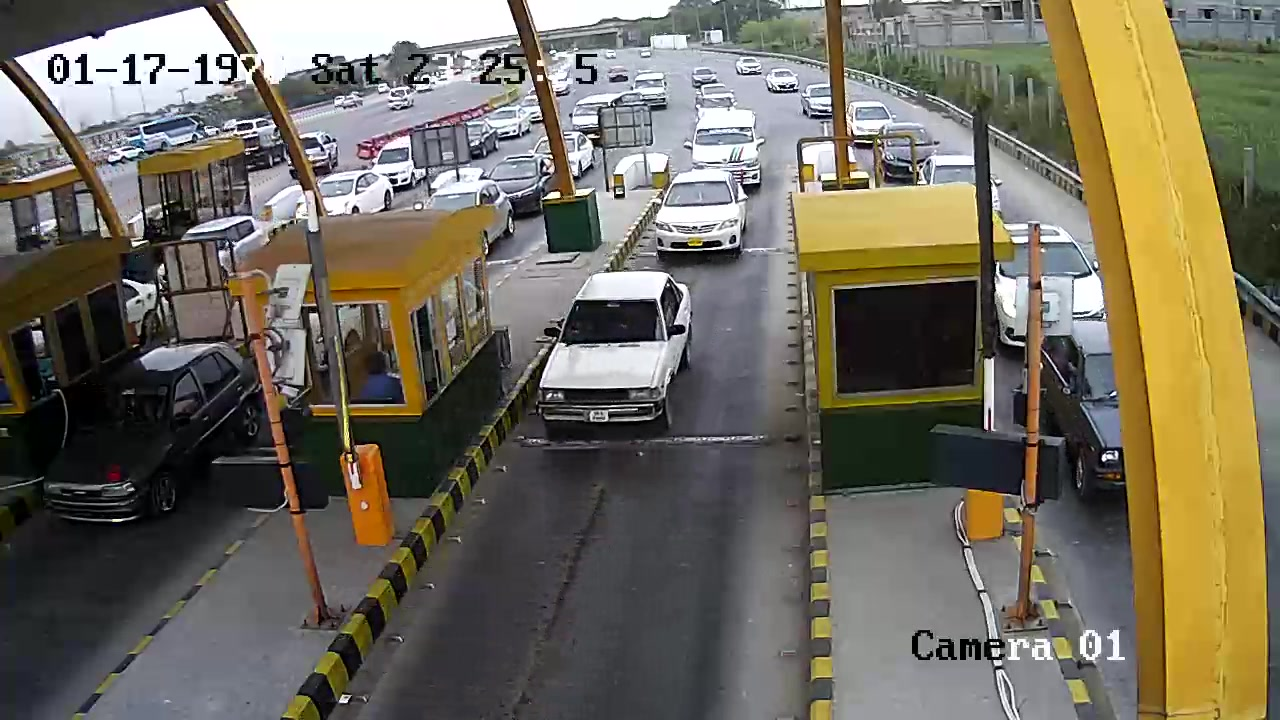F1: (532, 269, 715, 448)
